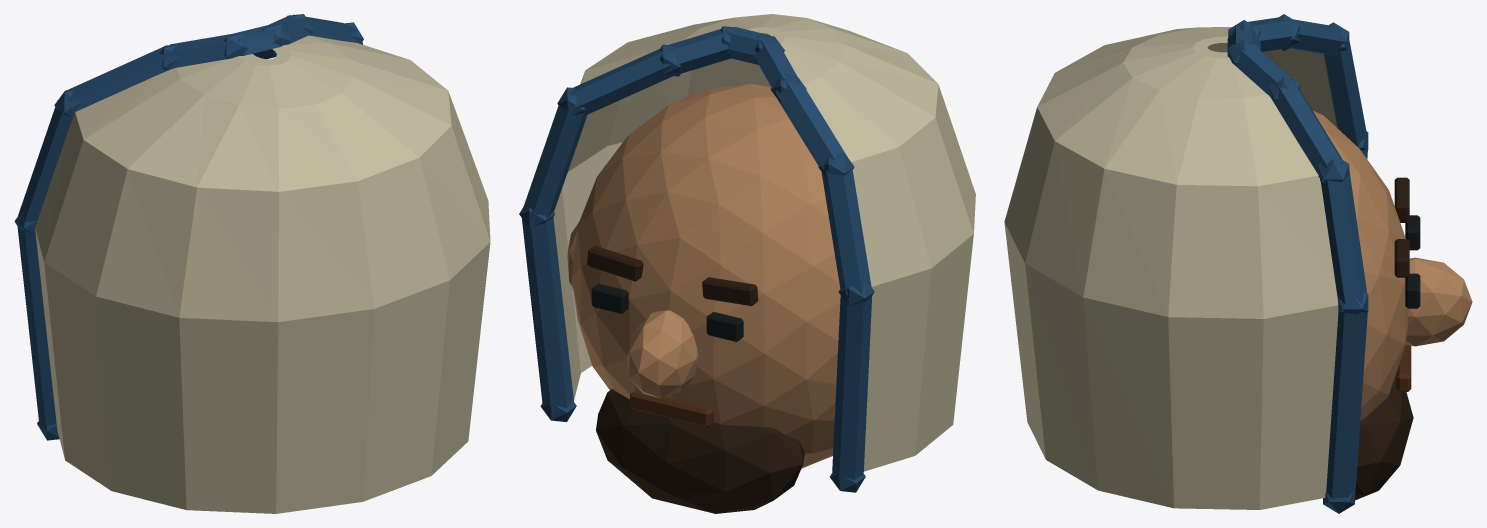
Rendered from Head.glb.
3 renders of one model, left to right at view 1: azimuth 30°, elevation 25°; view 2: azimuth 150°, elevation 25°; view 3: azimuth 270°, elevation 25°, orthographic. The views are drawn at different scales.
Parts seen in each view (by area): view 1: Sculpture; view 2: Sculpture; view 3: Sculpture.
Boxes of the visible parts, x1,y1,x2,y2 form: Sculpture: (14, 14, 490, 513); Sculpture: (519, 14, 975, 513); Sculpture: (1004, 14, 1472, 513).
Size of the model in its own units: 0.5613 by 0.6136 by 0.572.
